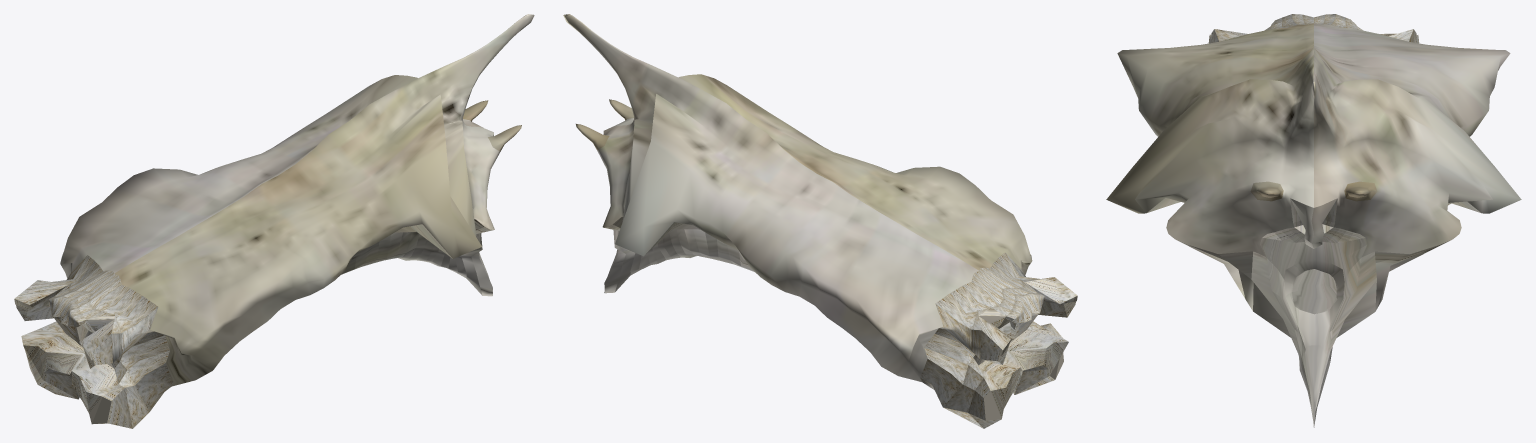
File: kepala1.glb
3 views of the same model, side by side, from view 1: azimuth 30°, elevation 25°; view 2: azimuth 150°, elevation 25°; view 3: azimuth 270°, elevation 25° (orthographic). The views are drawn at different scales.
Visible parts, largest first — view 1: Tulang_MSH23; view 2: Tulang_MSH23; view 3: Tulang_MSH23.
Part boxes in pixels (x1,y1,x2,y2): Tulang_MSH23: (14,14,534,428); Tulang_MSH23: (563,14,1077,428); Tulang_MSH23: (1106,14,1521,427).
Bounding box in the file's own units: 0.0522 × 0.0301 × 0.0287.
Materials: 1 (1 with a texture image).
